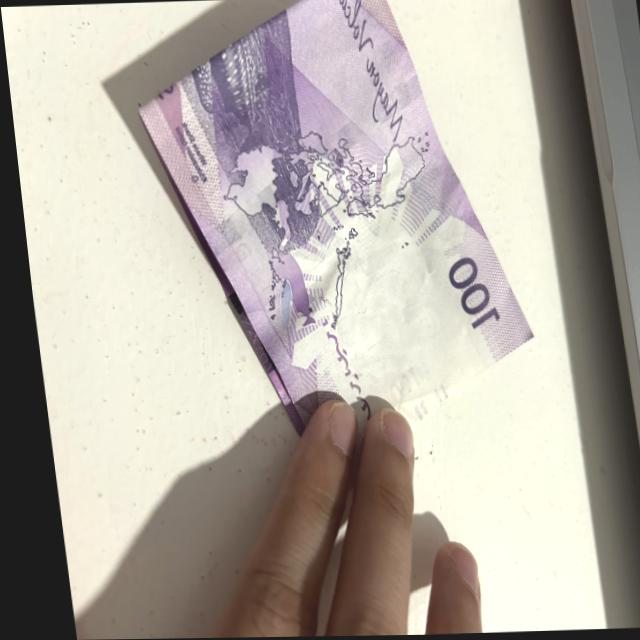100_whale: (204, 35, 269, 158)
100_whale_watermark: (264, 250, 308, 327)
value_watermark: (375, 366, 417, 405)
